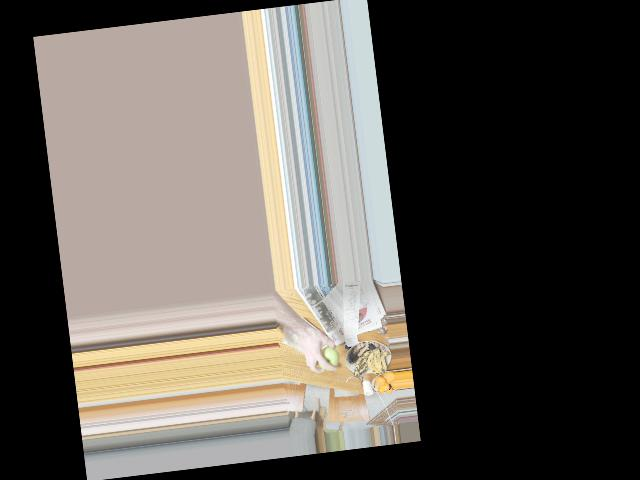apple: (316, 344, 339, 372)
